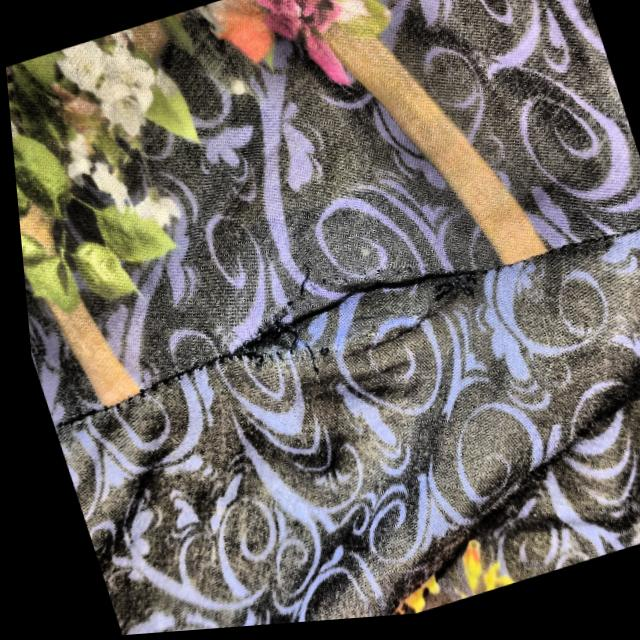seam: (159, 192, 554, 455)
